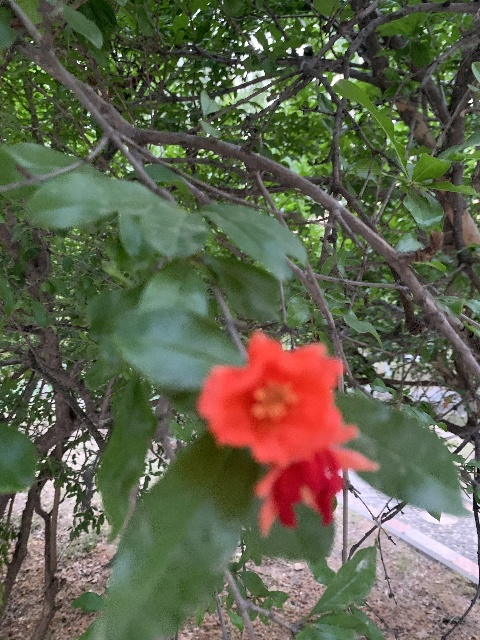flower: (196, 330, 349, 464), (252, 429, 378, 534)
